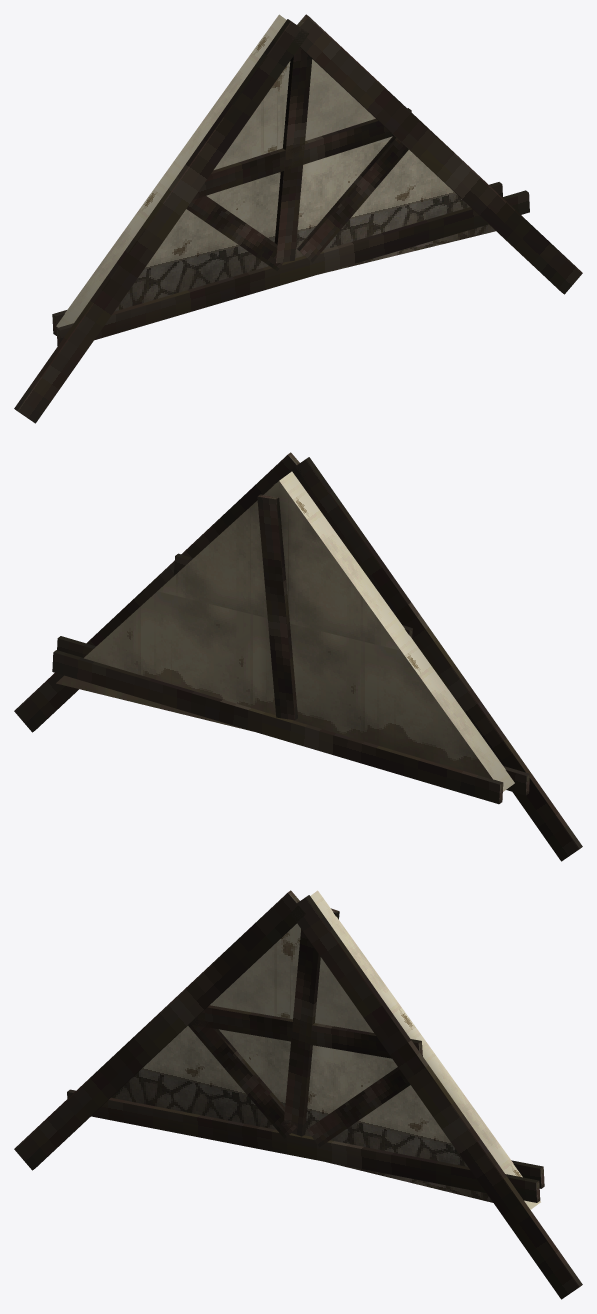
File: gable_timber.glb
3 renders of one model, top to bottom at view 1: azimuth 30°, elevation 25°; view 2: azimuth 150°, elevation 25°; view 3: azimuth 330°, elevation 25°, orthographic.
Parts seen in each view (by area): view 1: gable_timber; view 2: gable_timber; view 3: gable_timber.
Part boxes in pixels (x1,y1,x2,y2): gable_timber: [14, 14, 582, 423]; gable_timber: [14, 452, 582, 861]; gable_timber: [14, 890, 582, 1299].
Bounding box in the file's own units: 5.06 × 2.91 × 0.37.
1 material, 1 textured.
